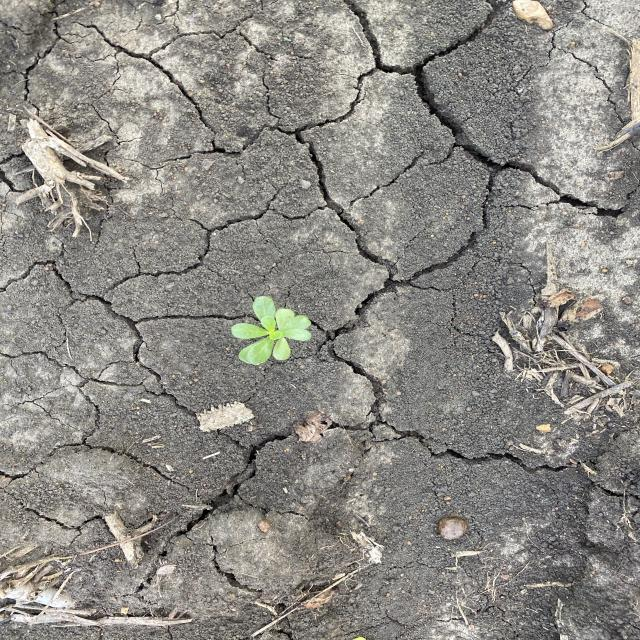Purslane: (227, 293, 315, 367)
